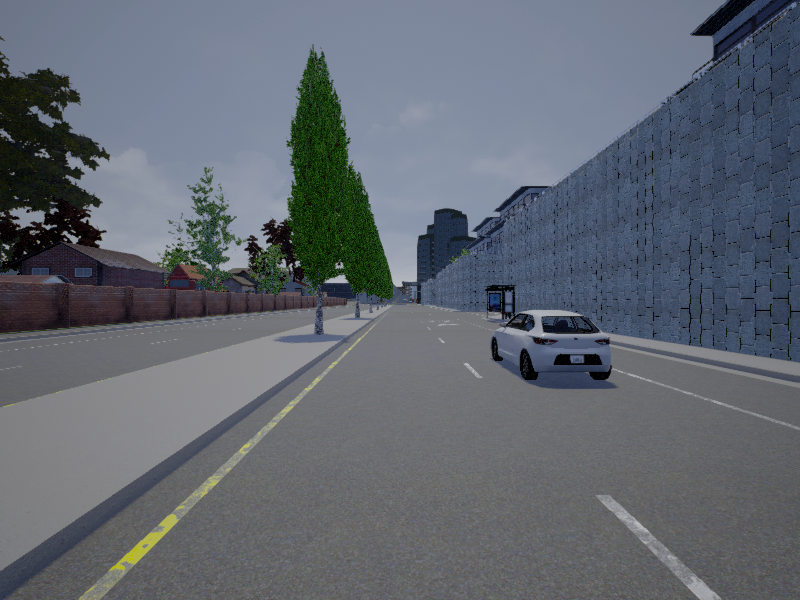Benign: (493, 310, 613, 380)
